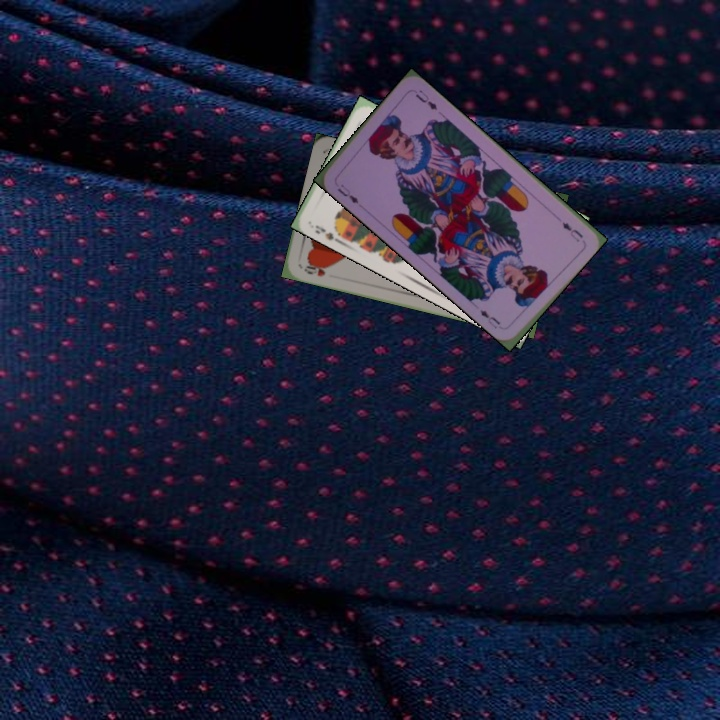EU: (558, 218, 586, 244), (334, 180, 361, 206)
HO: (300, 259, 332, 279)
S9: (311, 221, 347, 247)
